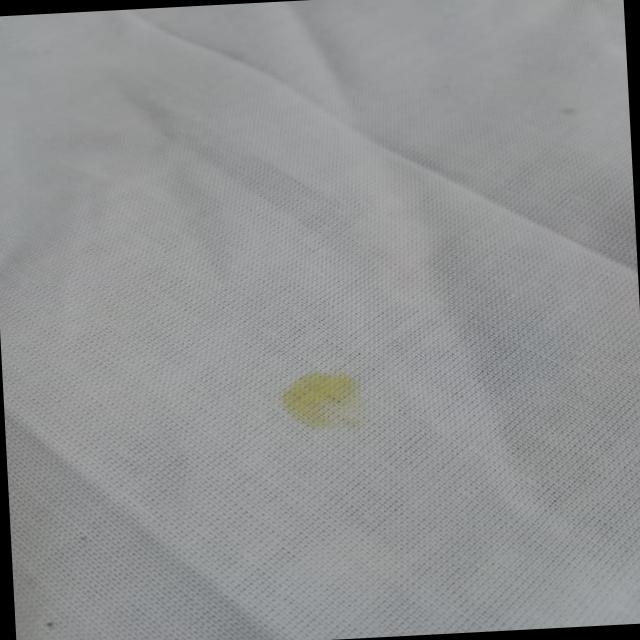stain: (270, 359, 385, 444)
